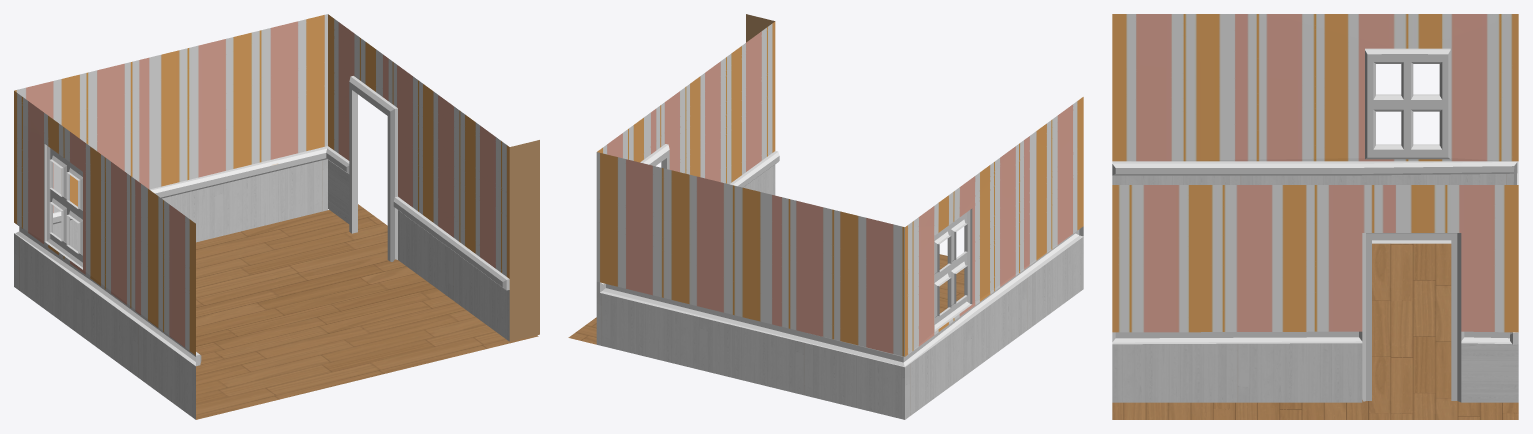
File: room1.glb
The picture shows the model from 3 angles, left to right: view 1: azimuth 30°, elevation 25°; view 2: azimuth 150°, elevation 25°; view 3: azimuth 270°, elevation 25°; orthographic projection. The views are drawn at different scales.
Visible parts, largest first — view 1: room1; view 2: room1; view 3: room1.
Part boxes in pixels (x1,y1,x2,y2): room1: (14,14,539,419); room1: (568,14,1083,419); room1: (1112,14,1518,419).
Bounding box in the file's own units: 0.4688 × 0.2608 × 0.4294.
1 material, 1 textured.
